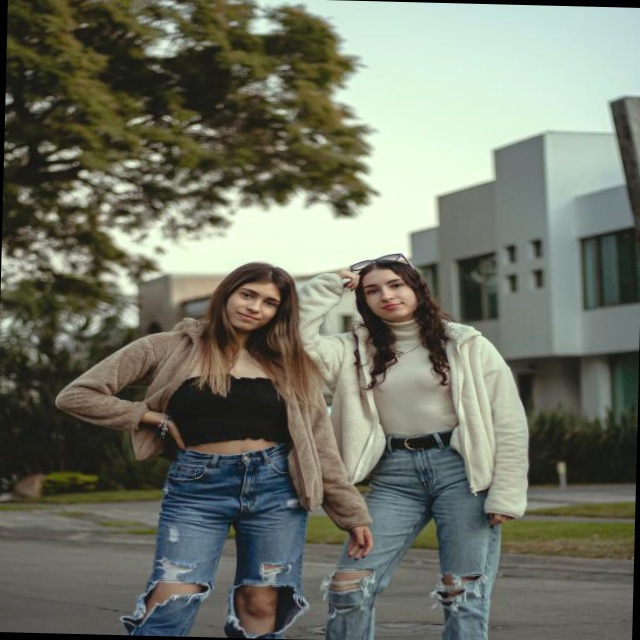Crop_Top: (159, 376, 294, 458)
low_neckline: (171, 329, 294, 439)
ripped_pants: (314, 424, 509, 640), (144, 447, 321, 640)
